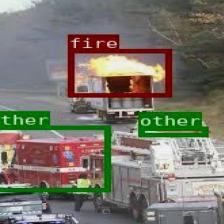fire: (67, 48, 170, 97)
